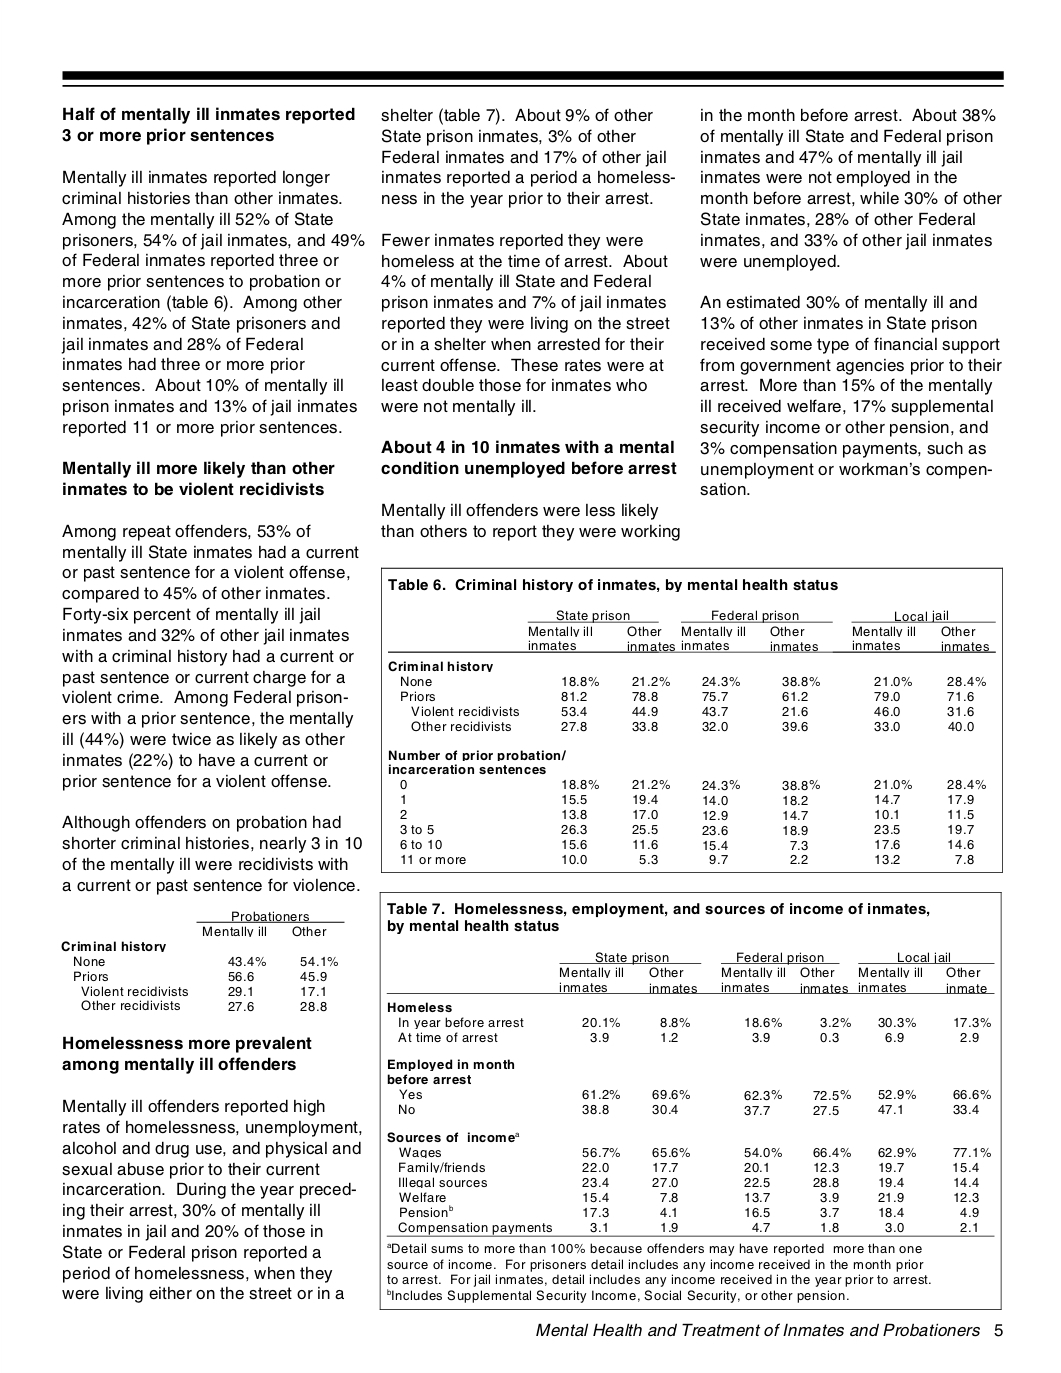Table: (379, 892, 1001, 1309), (381, 567, 1002, 871), (61, 911, 344, 1011)
